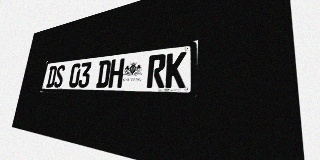0: (68, 63, 82, 88)
3: (78, 62, 92, 88)
D: (96, 60, 111, 88), (46, 65, 57, 88)
H: (108, 58, 125, 88)
K: (165, 51, 187, 88)
R: (146, 54, 166, 88)
S: (53, 65, 66, 88)
